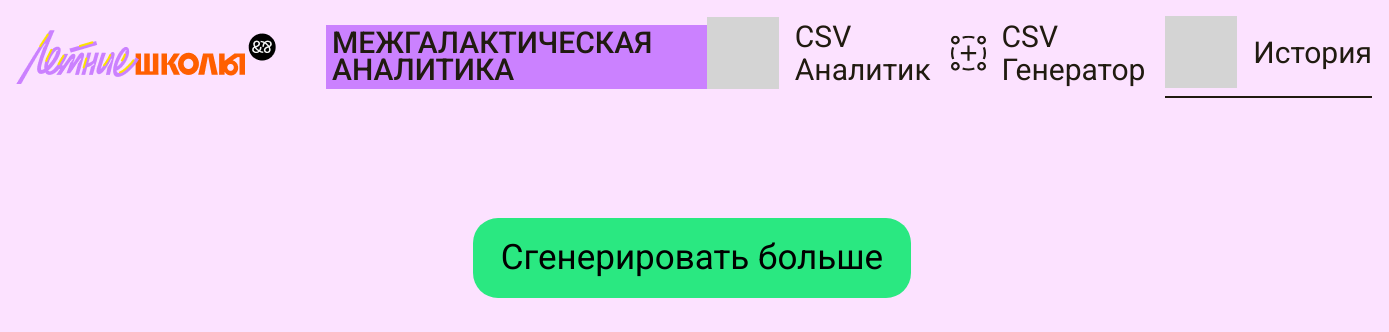
Test: тестирование роутинга › по клике на кнопку "Сгенерировать больше" на странице Истории происходит редирект на роут"/generator"
Click the button "Сгенерировать больше" at (692, 258), box [473,218,911,298]
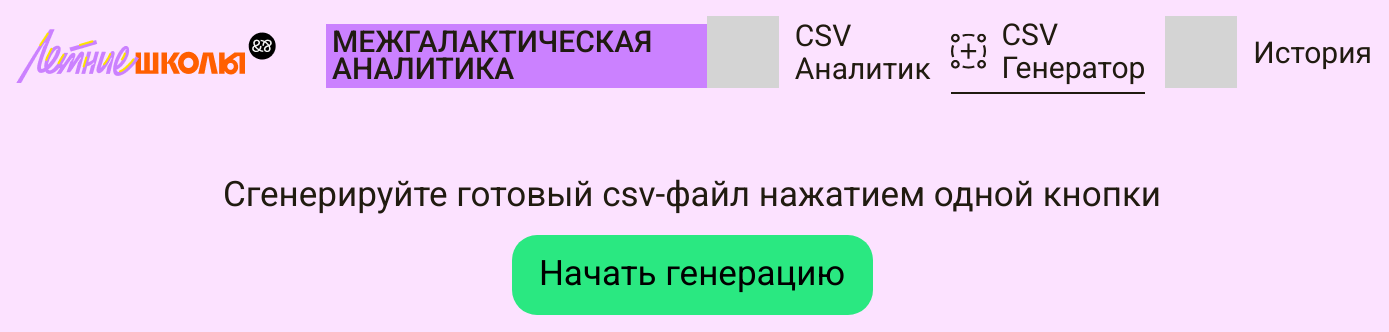
Result: the element with test id "generator-heading" is shown at [223,174,1161,314]
